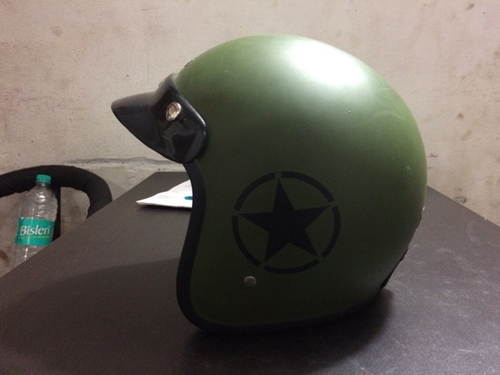with_helmet: (107, 30, 429, 333)
